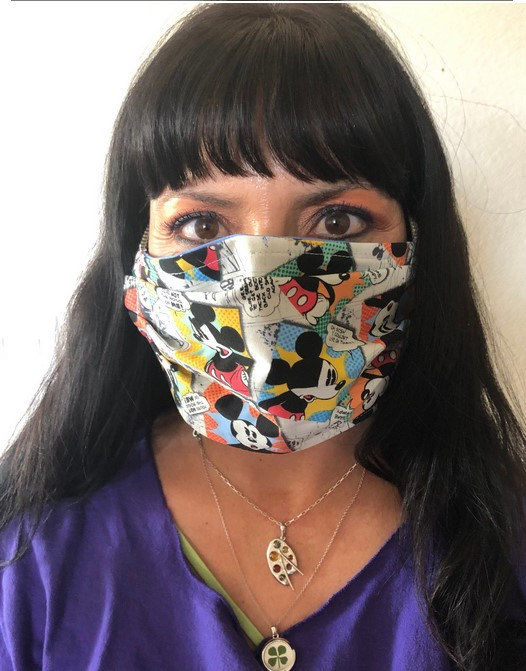face_with_mask: (120, 3, 435, 458)
